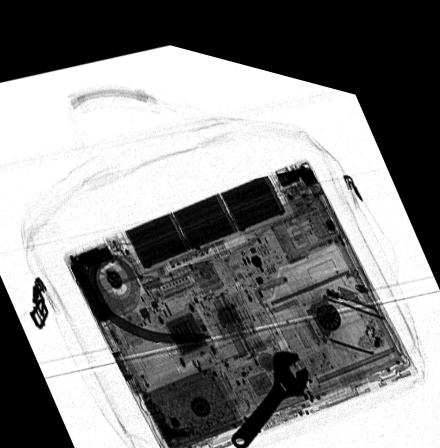Wrench: (231, 332, 308, 439)
